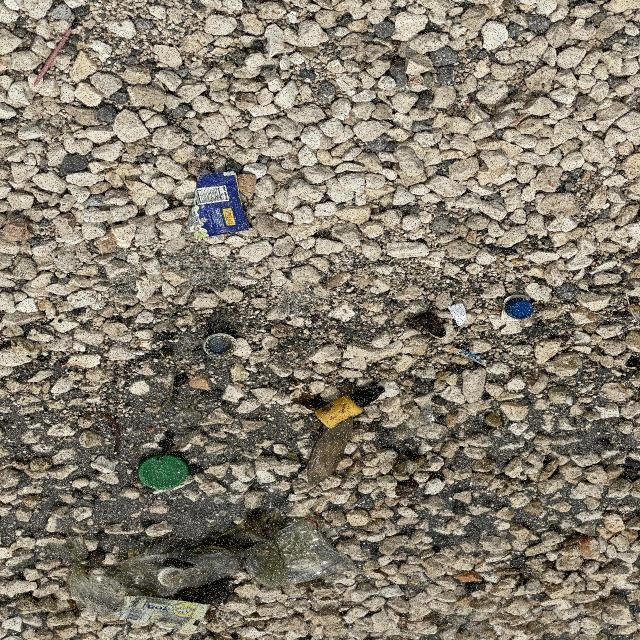plastic_waste: (191, 173, 253, 240), (119, 595, 213, 633), (138, 458, 190, 493), (202, 332, 240, 361), (506, 299, 537, 321)
